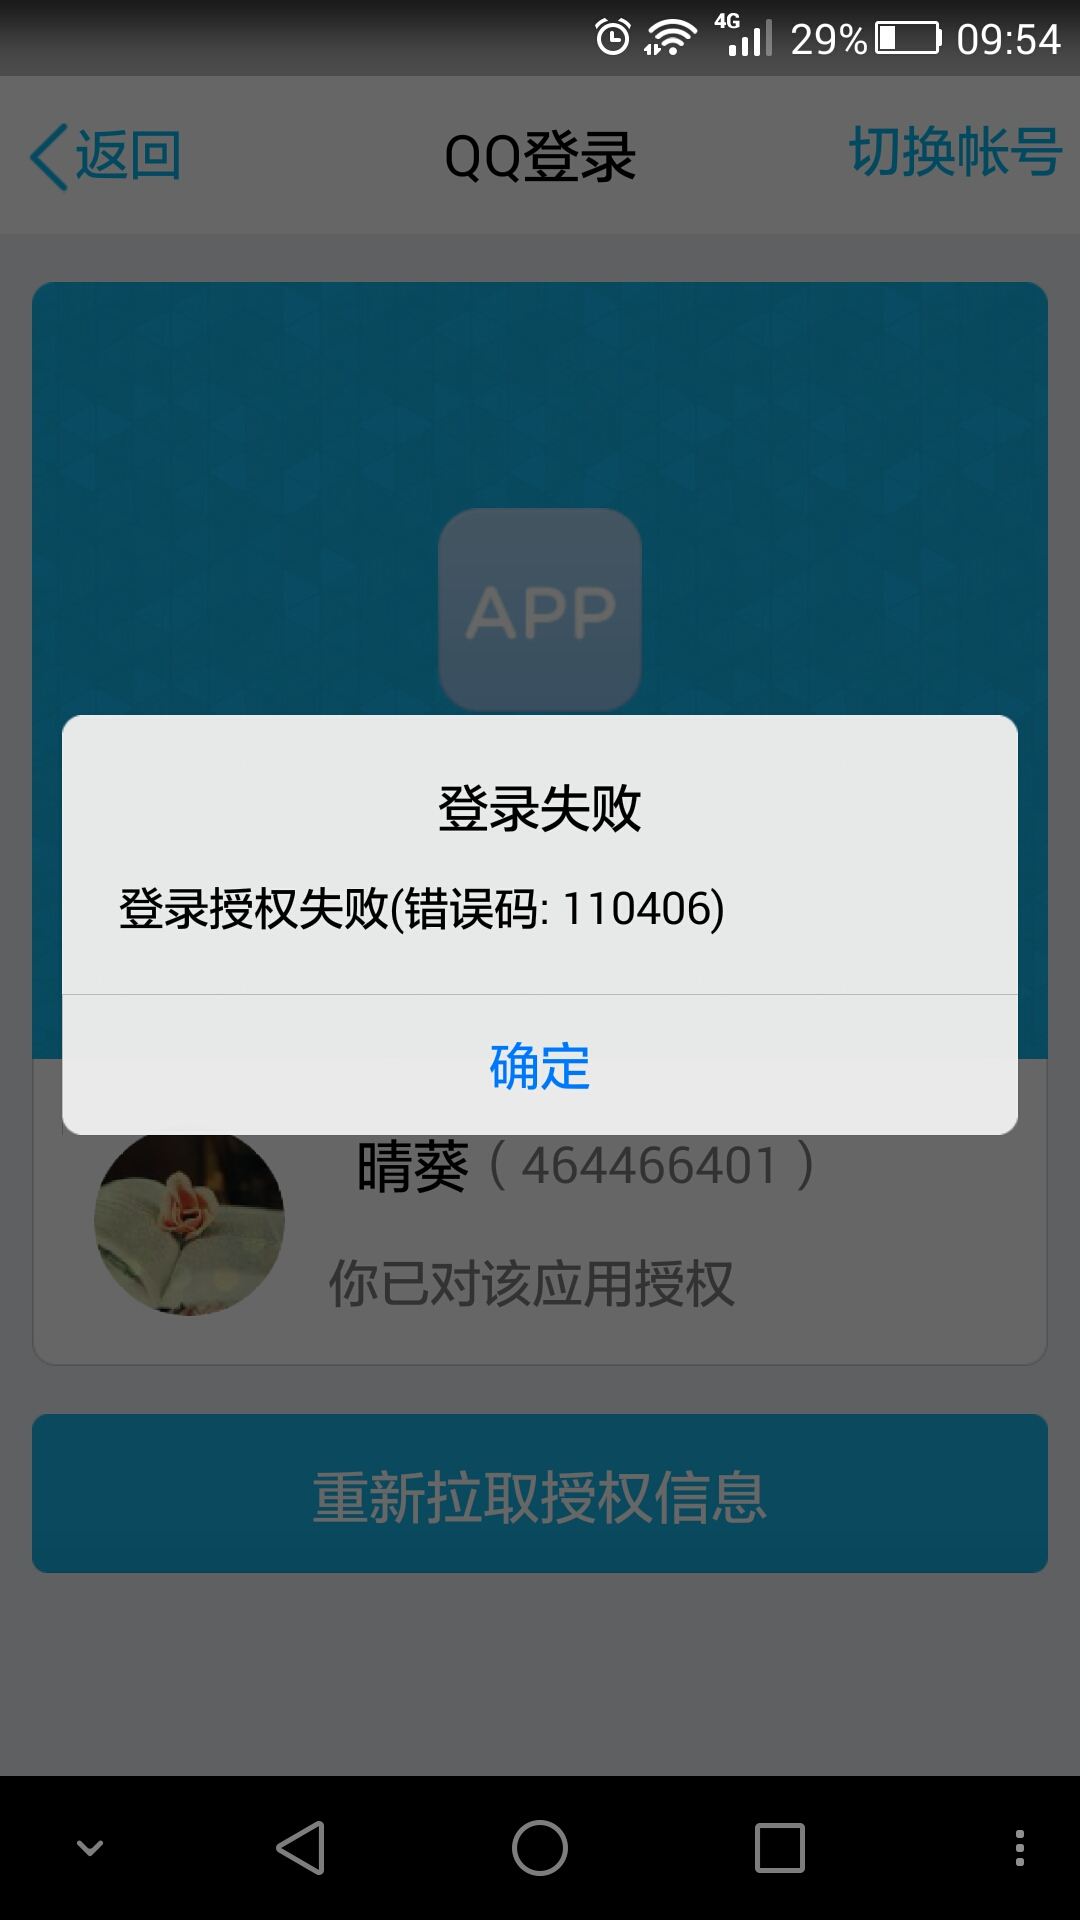alert: (51, 696, 1029, 1149)
